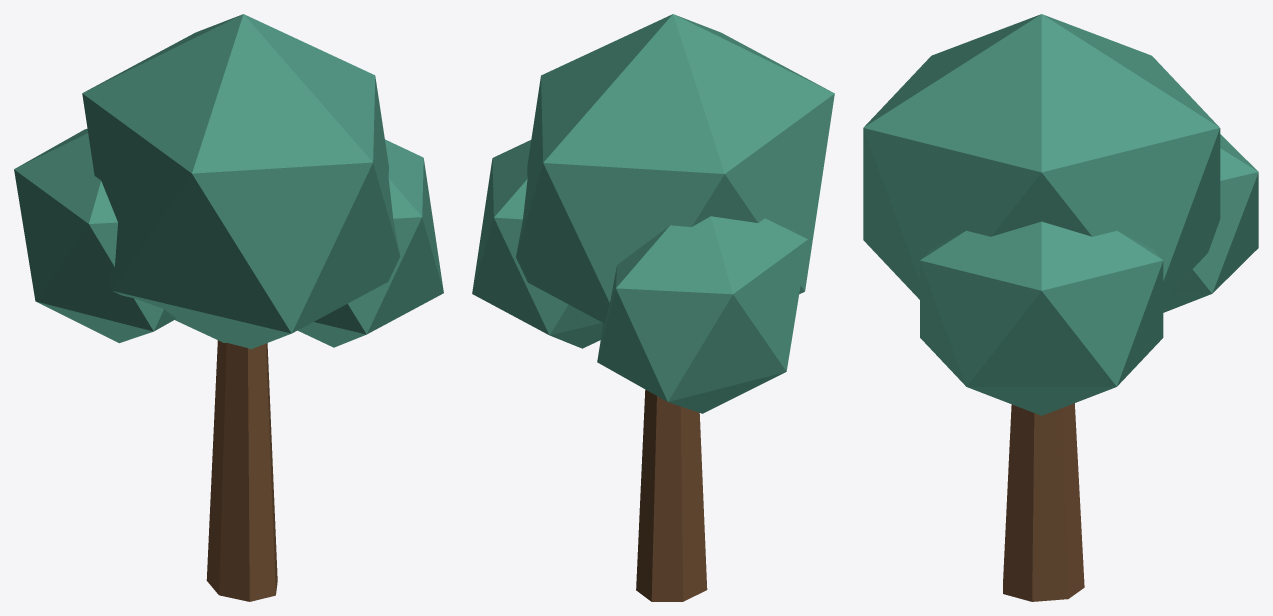
Rendered from cloudwood_tree_v001.fbx.
3 renders of one model, left to right at view 1: azimuth 30°, elevation 25°; view 2: azimuth 150°, elevation 25°; view 3: azimuth 270°, elevation 25°, orthographic.
Parts seen in each view (by area): view 1: Canopy_Main, Canopy_Northwest, Trunk, Canopy_East; view 2: Canopy_Main, Canopy_Northwest, Trunk, Canopy_East; view 3: Canopy_Main, Canopy_East, Trunk, Canopy_Northwest.
Part boxes in pixels (x1,y1,x2,y2): Canopy_Main: (82, 14, 400, 349); Canopy_Northwest: (14, 128, 176, 343); Trunk: (206, 340, 277, 601); Canopy_East: (298, 139, 443, 347); Canopy_Main: (516, 14, 834, 323); Canopy_Northwest: (597, 216, 807, 413); Trunk: (636, 389, 707, 601); Canopy_East: (472, 140, 603, 348); Canopy_Main: (863, 14, 1220, 299); Canopy_East: (920, 221, 1163, 415); Trunk: (1003, 403, 1084, 601); Canopy_Northwest: (1163, 134, 1258, 312).
Bounding box in the file's own units: 1.4 × 2.24 × 1.4.
